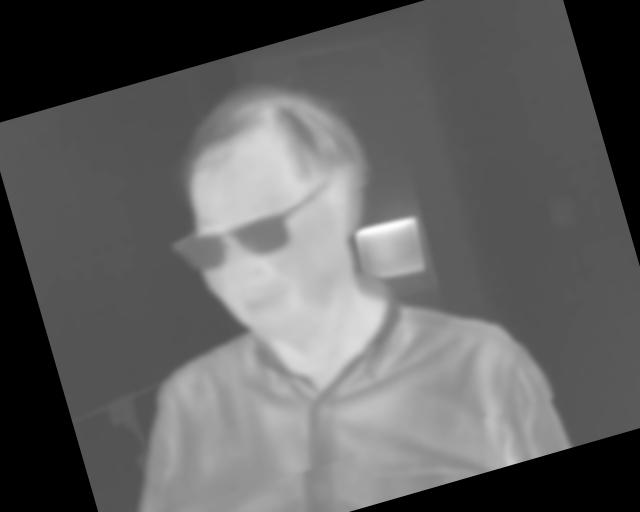face: (147, 56, 404, 345)
